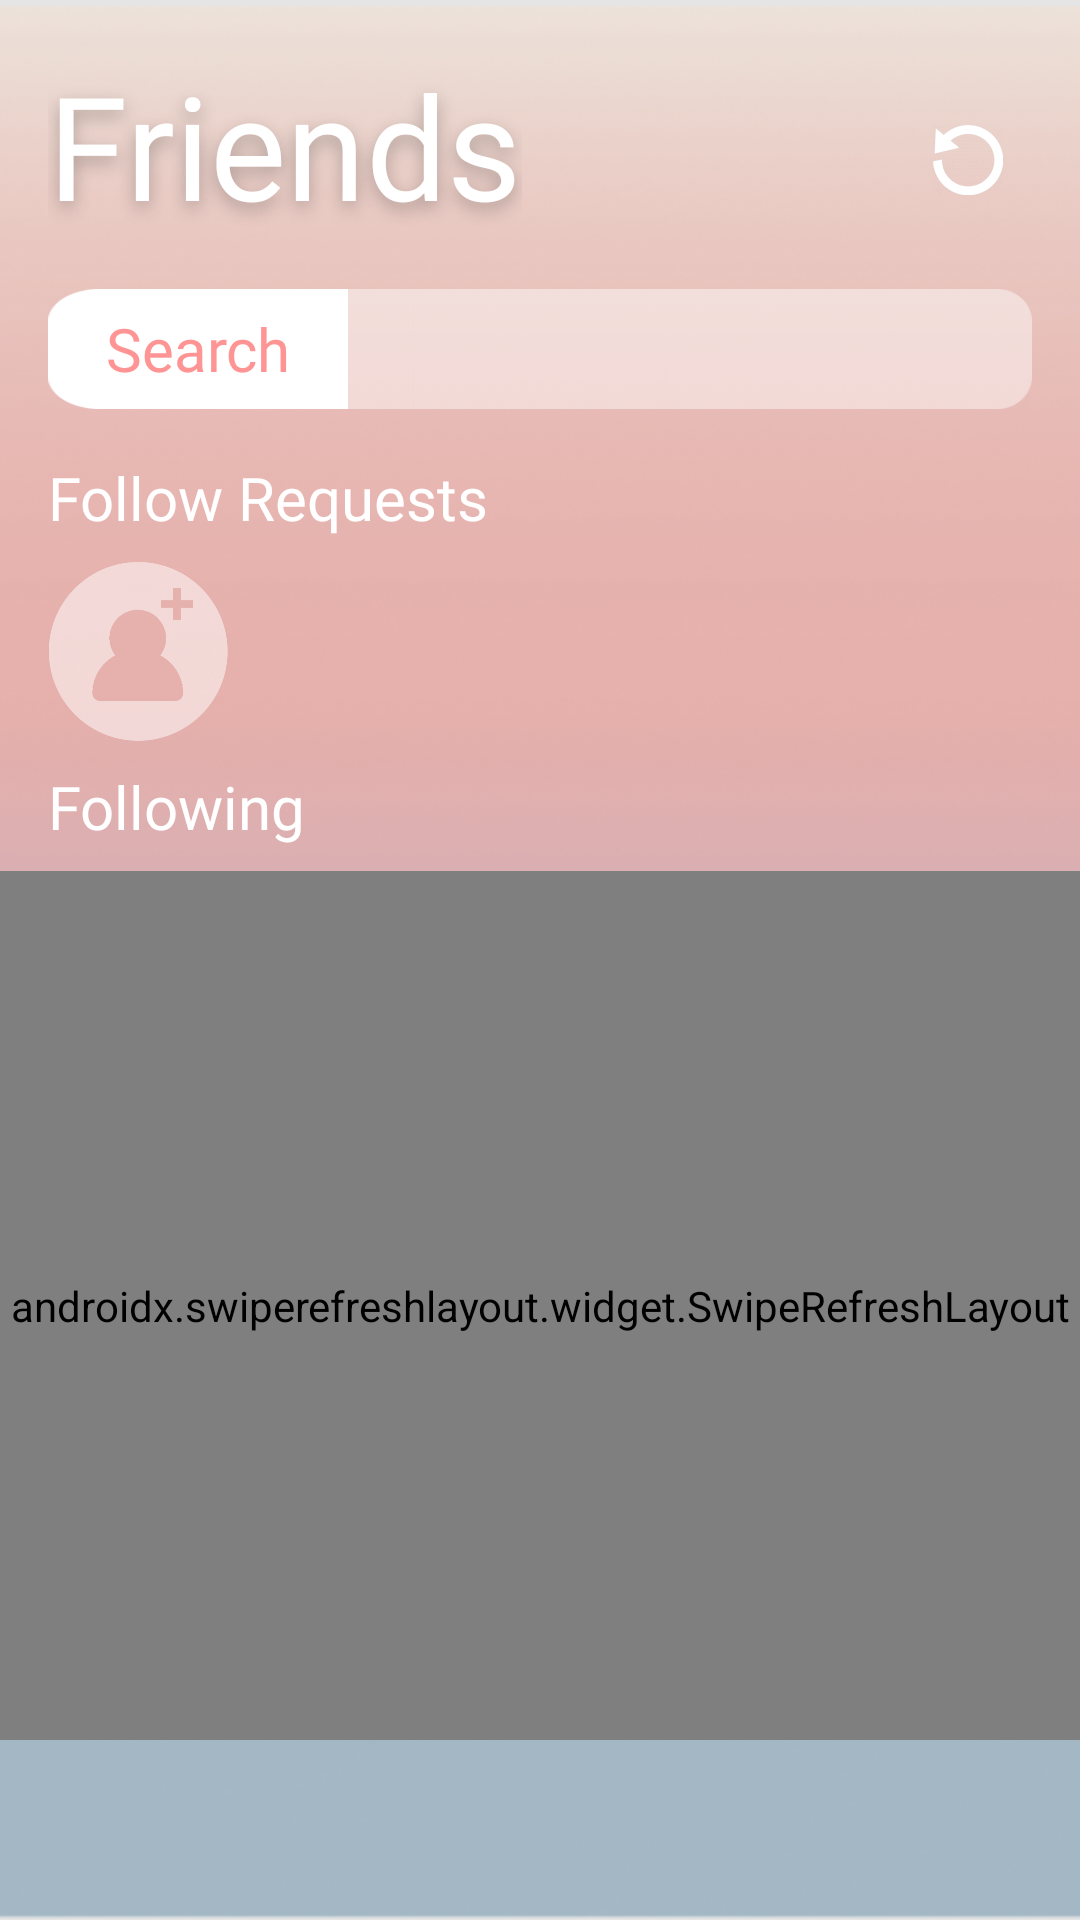

Icon click points for this 1080 × 1920 phone screenshot, format [x,y]:
refresh: [968,160]
